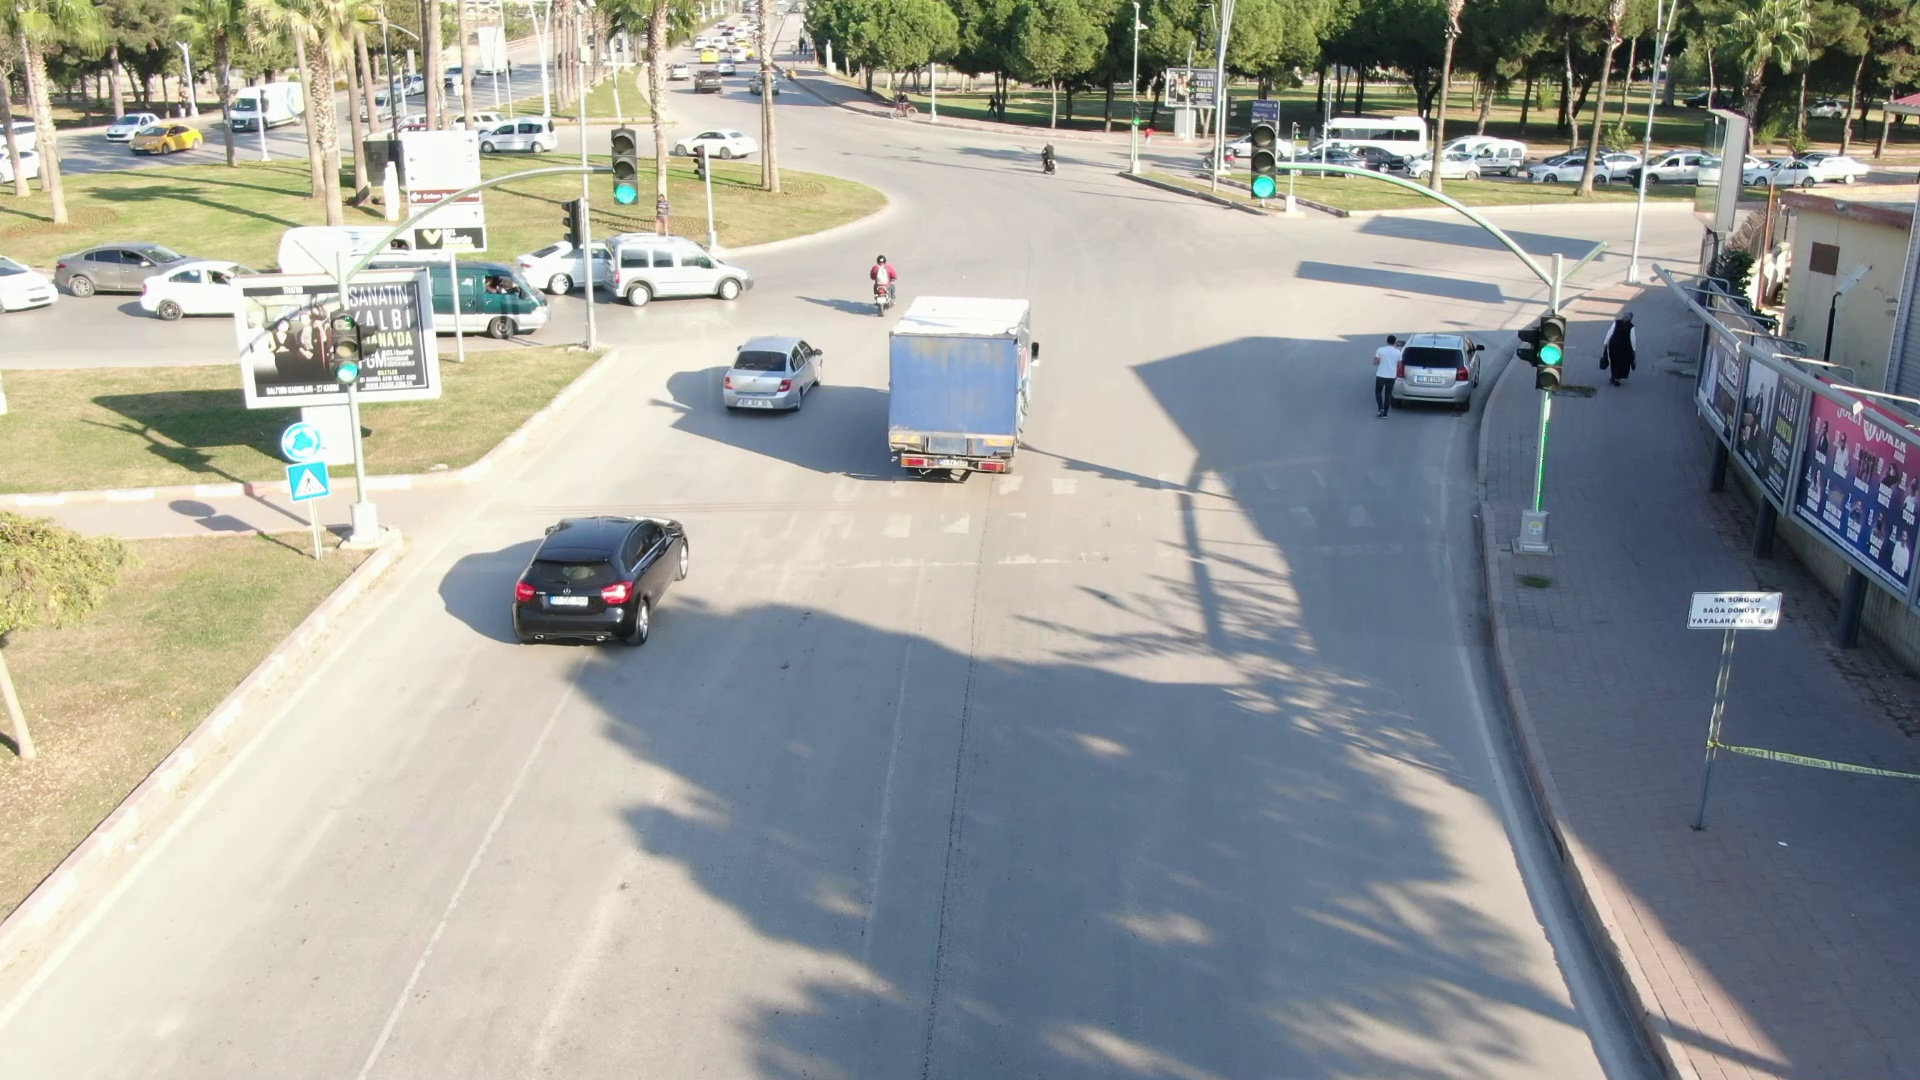car: (878, 284, 1080, 486), (488, 486, 712, 660), (27, 215, 215, 319), (599, 230, 775, 319), (701, 313, 832, 430), (95, 104, 201, 174), (469, 106, 571, 163), (673, 115, 762, 163)
person: (1594, 300, 1639, 395), (1369, 332, 1403, 421)
